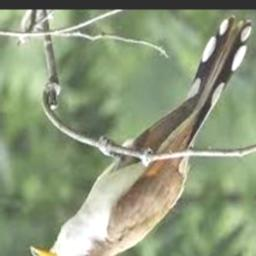Cuckoo: (31, 15, 252, 256)
